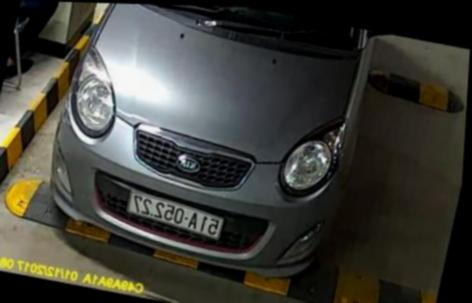License_Plate: (119, 191, 230, 238)
